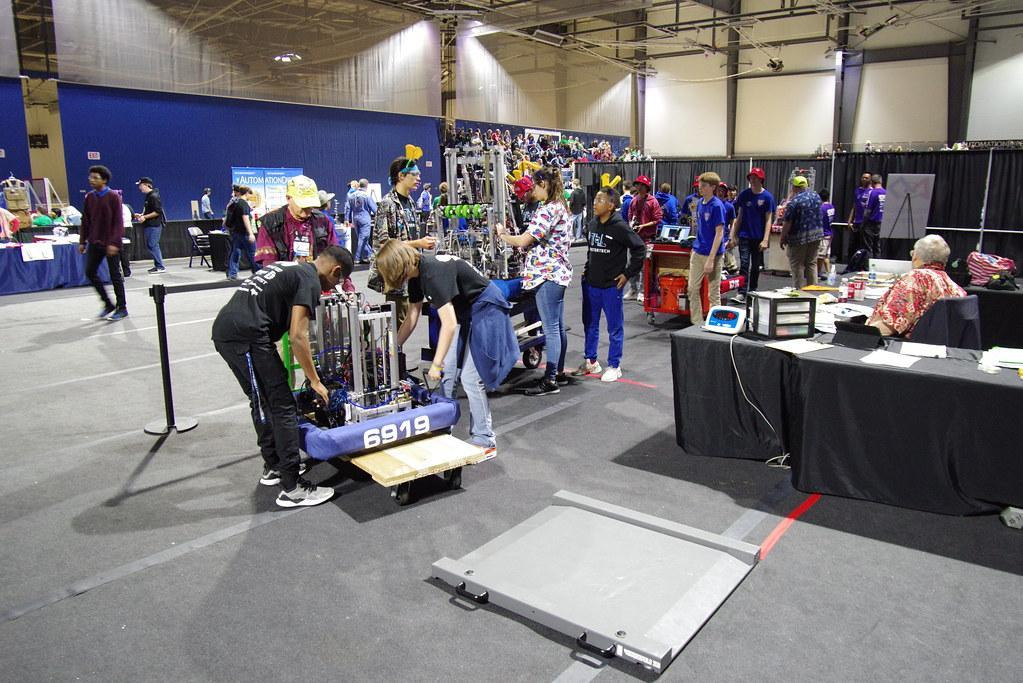robot: (284, 287, 469, 472), (392, 137, 554, 307)
